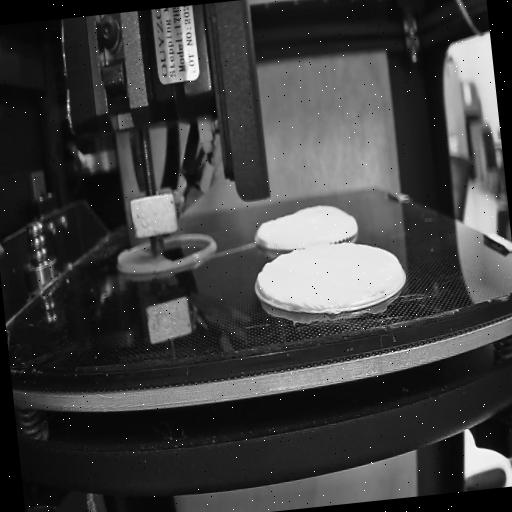over_extrusion: (256, 270, 276, 306)
